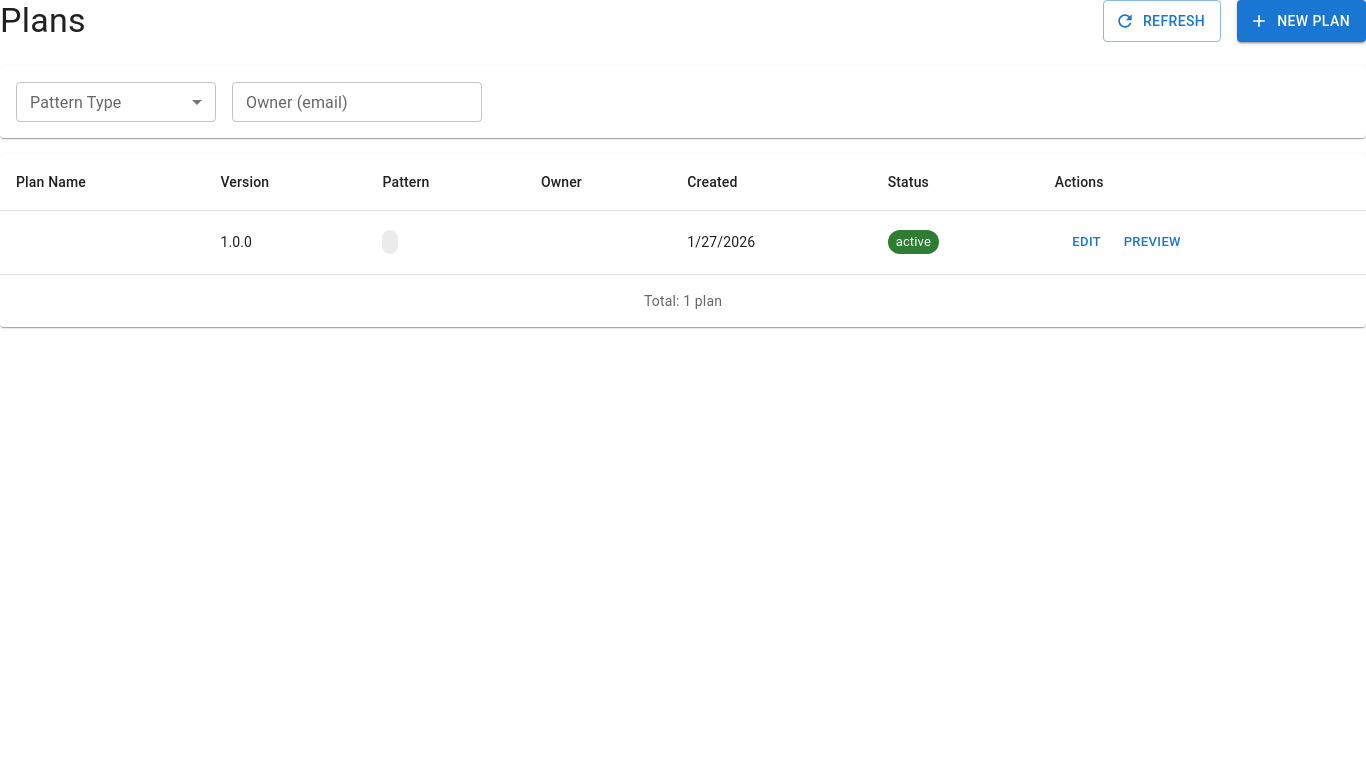
Test case: Table Existence Checking › should show success message when table exists
The width and height of the screenshot is (1366, 768).
Click the button "Preview".
click(1152, 242)  # box [1119, 227, 1186, 258]
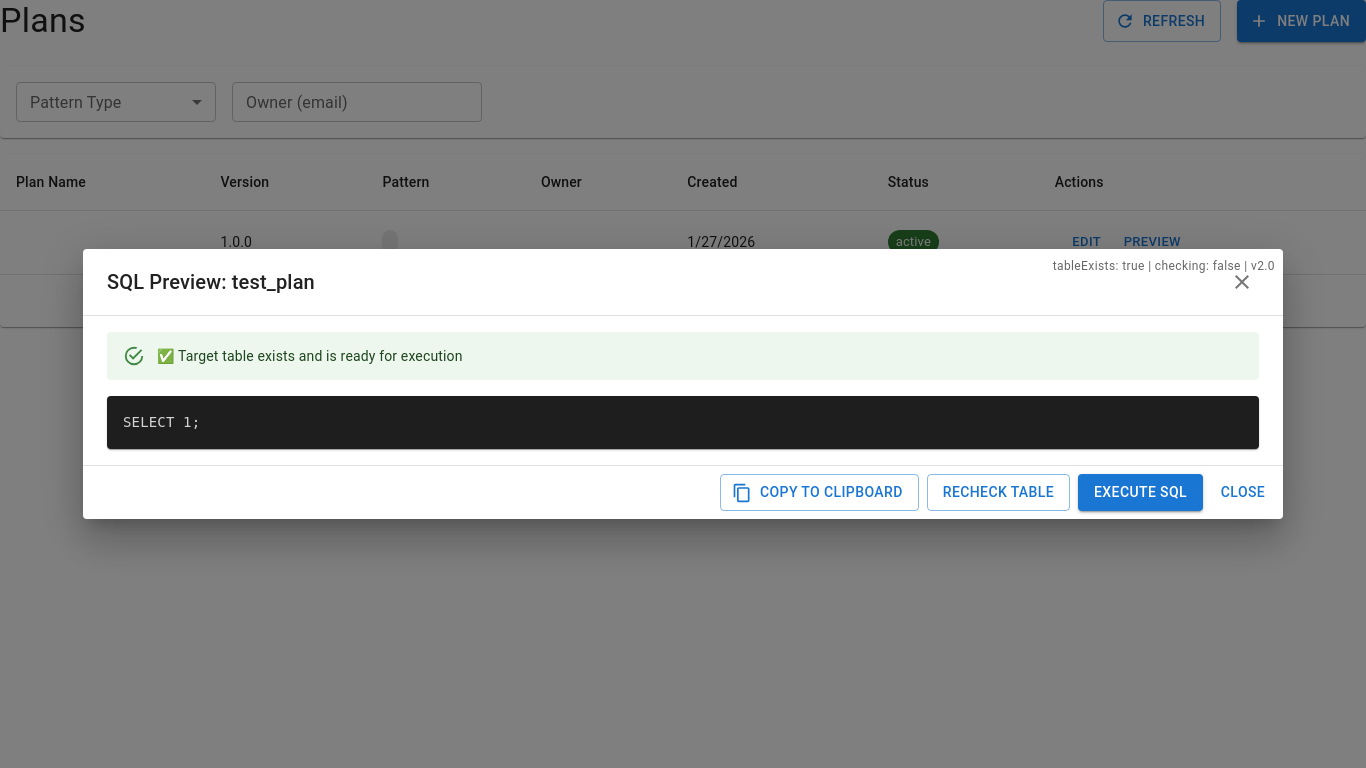
Expected: the text "✅ Target table exists and is ready for execution" is shown, [157, 348, 463, 364]
